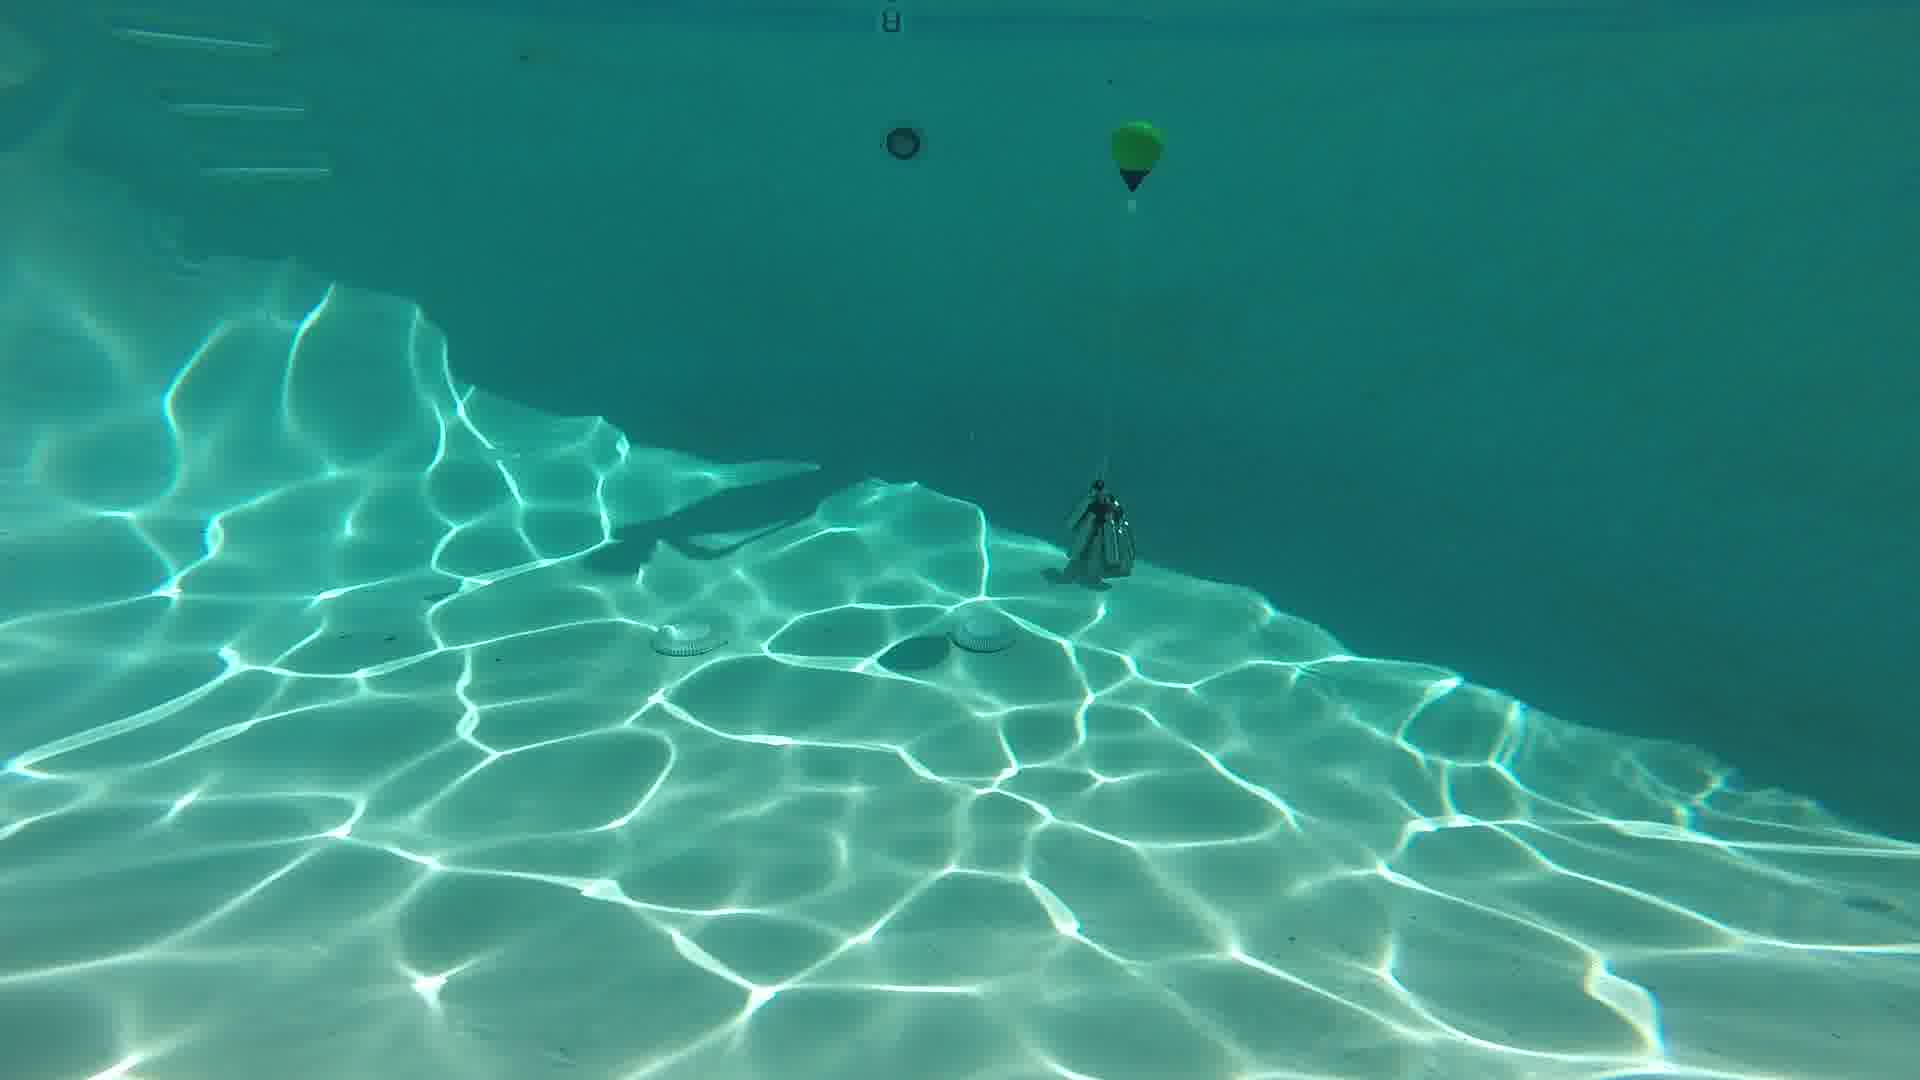yellow_buoy: (1114, 123, 1163, 190)
